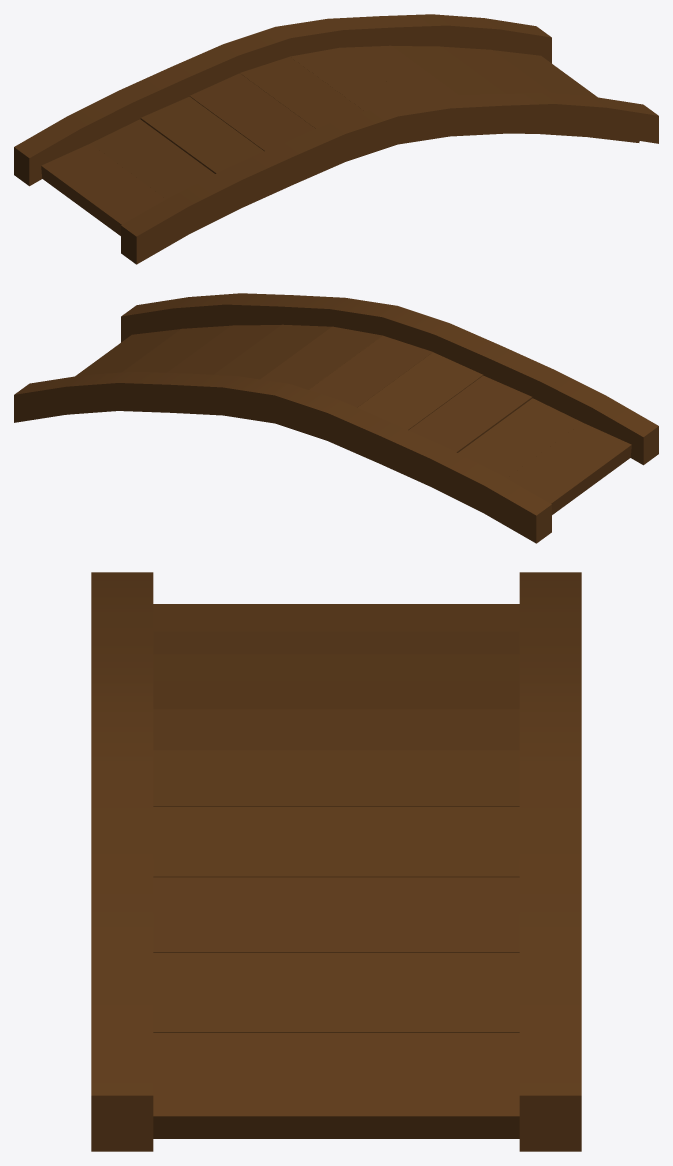
File: Bridge 4.fbx
The picture shows the model from 3 angles, top to bottom: view 1: azimuth 30°, elevation 25°; view 2: azimuth 150°, elevation 25°; view 3: azimuth 270°, elevation 25°; orthographic projection. The views are drawn at different scales.
Visible parts, largest first — view 1: Bridge_4; view 2: Bridge_4; view 3: Bridge_4.
Boxes of the visible parts, x1,y1,x2,y2 form: Bridge_4: (14,14,658,264); Bridge_4: (14,293,658,543); Bridge_4: (91,572,581,1151).
Bounding box in the file's own units: 1032 × 173 × 419.
Materials: 1 (1 with a texture image).
